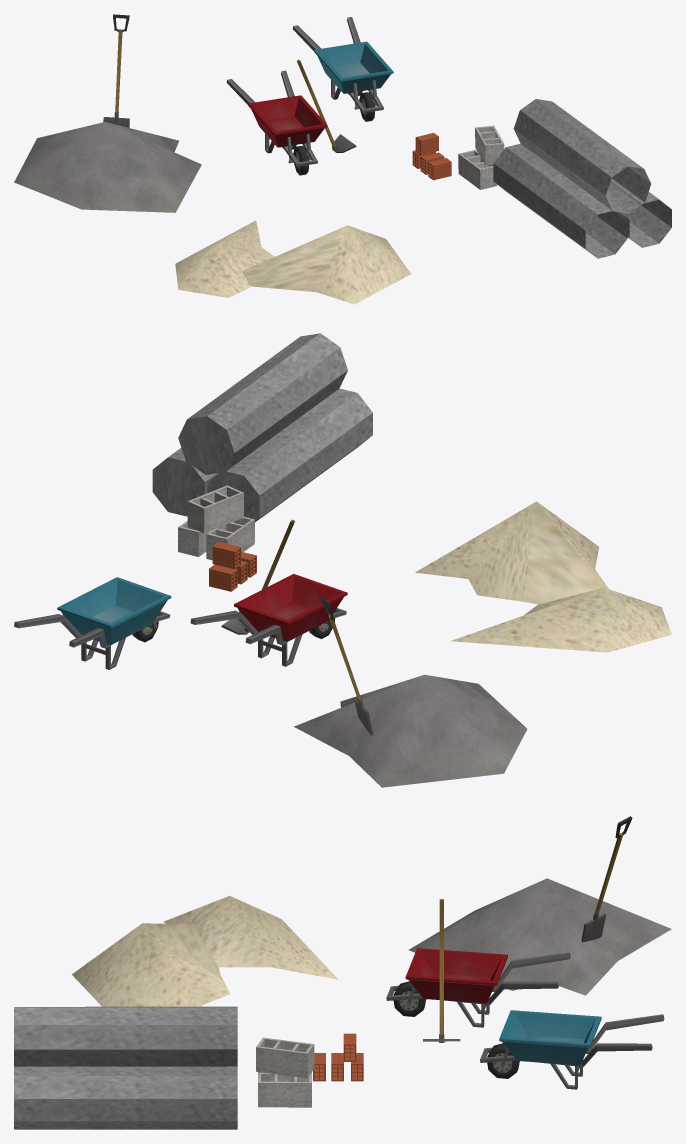
File: construcao_mod.fbx
3 renders of one model, top to bottom at view 1: azimuth 30°, elevation 25°; view 2: azimuth 150°, elevation 25°; view 3: azimuth 270°, elevation 25°, orthographic. The views are drawn at different scales.
Parts seen in each view (by area): view 1: Cube.005, Cube.003, Cube.015, Cube.014, Cube.004, Cube.007, Cube.000, Cube.001, Cube.013, Cube.006, Cube.008, Cube.002 (+1 smaller); view 2: Cube.003, Cube.005, Cube.015, Cube.014, Cube.007, Cube.004, Cube.000, Cube.013, Cube.001, Cube.006, Cube.012, Cube.011; view 3: Cube.003, Cube.000, Cube.005, Cube.015, Cube.007, Cube.004, Cube.013, Cube.012, Cube.006, Cube.008.
Part boxes in pixels (x1,y1,x2,y2): Cube.005: [14, 122, 201, 212]; Cube.003: [175, 220, 410, 304]; Cube.015: [513, 99, 650, 213]; Cube.014: [493, 143, 627, 258]; Cube.004: [226, 70, 327, 175]; Cube.007: [292, 17, 393, 121]; Cube.000: [610, 180, 671, 247]; Cube.001: [458, 149, 497, 189]; Cube.013: [475, 125, 504, 165]; Cube.006: [103, 14, 129, 127]; Cube.008: [297, 59, 356, 152]; Cube.002: [428, 158, 451, 180]; Cube.003: [415, 501, 671, 652]; Cube.005: [294, 674, 527, 787]; Cube.015: [178, 333, 347, 474]; Cube.014: [207, 388, 372, 522]; Cube.007: [14, 577, 171, 669]; Cube.004: [190, 574, 347, 666]; Cube.000: [152, 448, 219, 516]; Cube.013: [187, 485, 243, 533]; Cube.001: [206, 516, 254, 560]; Cube.006: [320, 596, 372, 735]; Cube.012: [178, 520, 210, 556]; Cube.011: [212, 541, 241, 569]; Cube.003: [72, 895, 337, 1006]; Cube.000: [14, 1066, 237, 1129]; Cube.005: [408, 878, 671, 995]; Cube.015: [14, 1006, 237, 1066]; Cube.007: [480, 1010, 664, 1089]; Cube.004: [386, 948, 570, 1027]; Cube.013: [256, 1037, 314, 1078]; Cube.012: [258, 1072, 311, 1107]; Cube.006: [581, 816, 632, 942]; Cube.008: [423, 899, 460, 1042].
Size of the model in its own units: 468 by 131 by 516.
